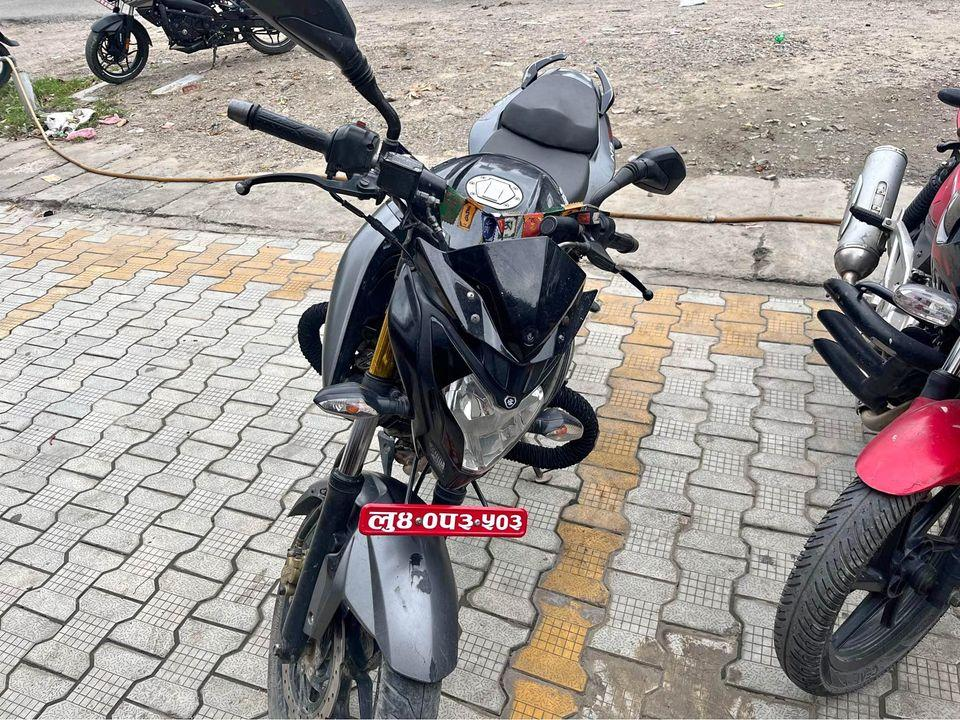bike: (218, 0, 696, 720), (768, 76, 960, 704)
